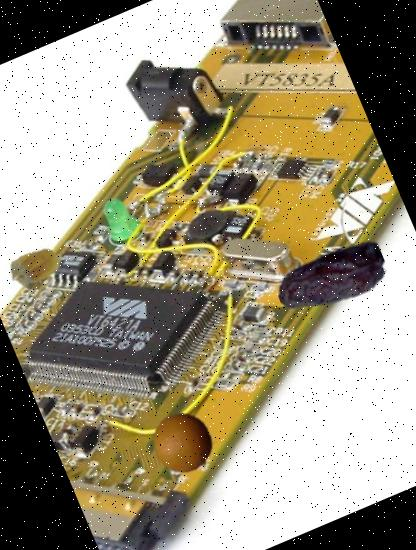Dates: (258, 206, 405, 353)
Orange: (142, 402, 225, 485)
Physalis: (0, 229, 71, 301)
